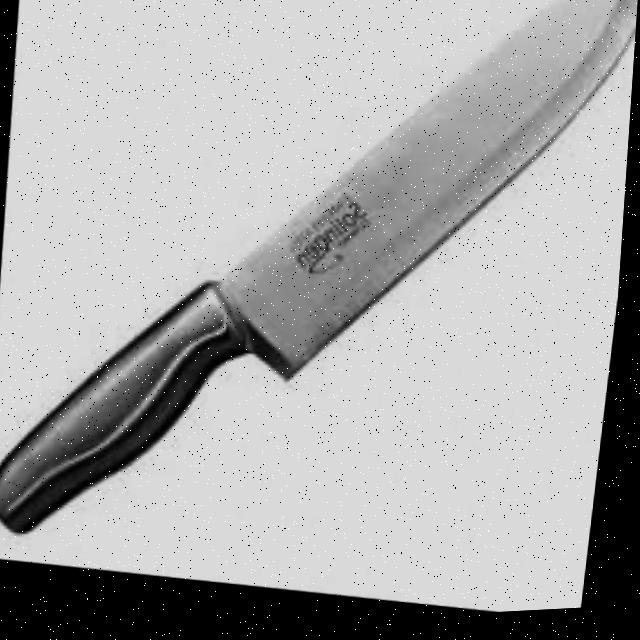knife: (0, 0, 640, 566)
